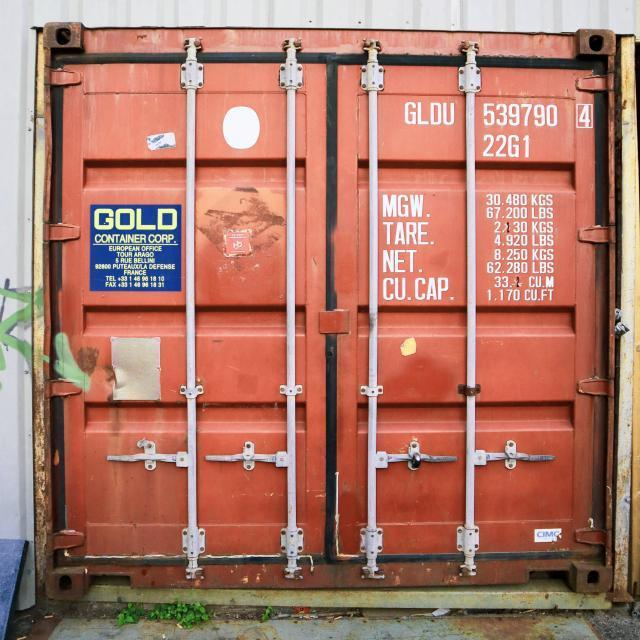ISO: (480, 136, 530, 161)
container_number: (407, 102, 590, 128)
